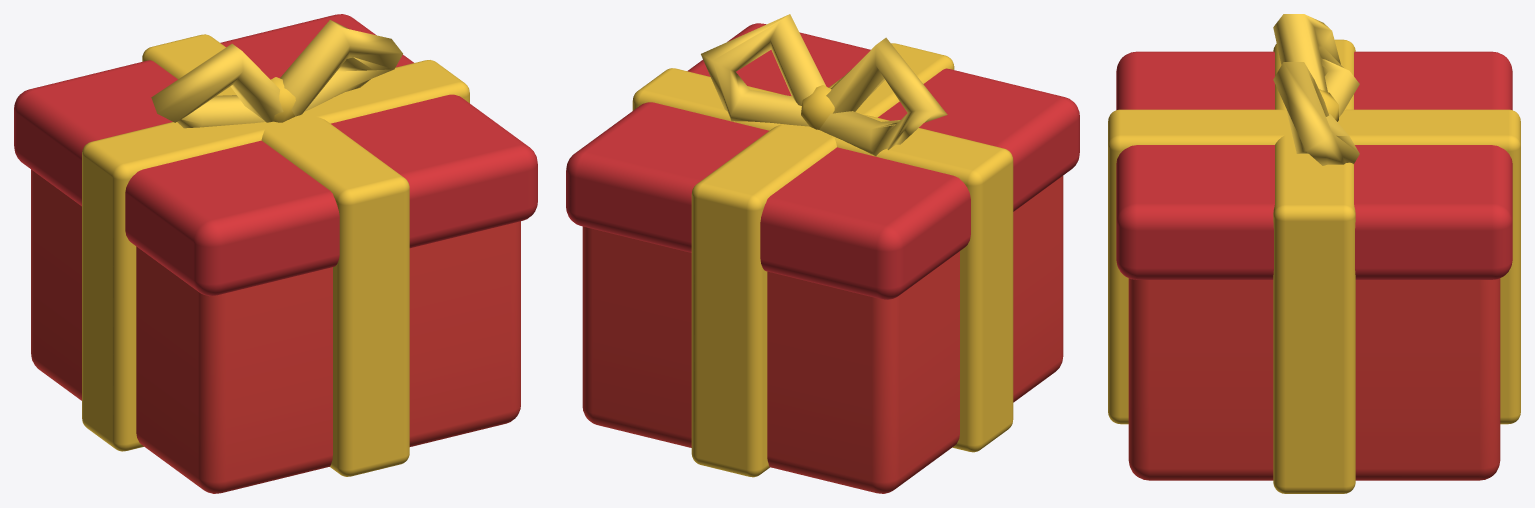
File: item_ui_present.glb
3 renders of one model, left to right at view 1: azimuth 30°, elevation 25°; view 2: azimuth 150°, elevation 25°; view 3: azimuth 270°, elevation 25°, orthographic. The views are drawn at different scales.
Parts seen in each view (by area): view 1: item_ui_present_main, item_ui_present_gloss; view 2: item_ui_present_main, item_ui_present_gloss; view 3: item_ui_present_main, item_ui_present_gloss.
Part boxes in pixels (x1=…): item_ui_present_main: x1=14, y1=14, x2=537, y2=493; item_ui_present_gloss: x1=82, y1=20, x2=469, y2=476; item_ui_present_main: x1=566, y1=23, x2=1079, y2=493; item_ui_present_gloss: x1=632, y1=14, x2=1013, y2=477; item_ui_present_main: x1=1116, y1=51, x2=1512, y2=480; item_ui_present_gloss: x1=1108, y1=14, x2=1520, y2=493.
Bounding box in the file's own units: 0.2 × 0.1993 × 0.2.
